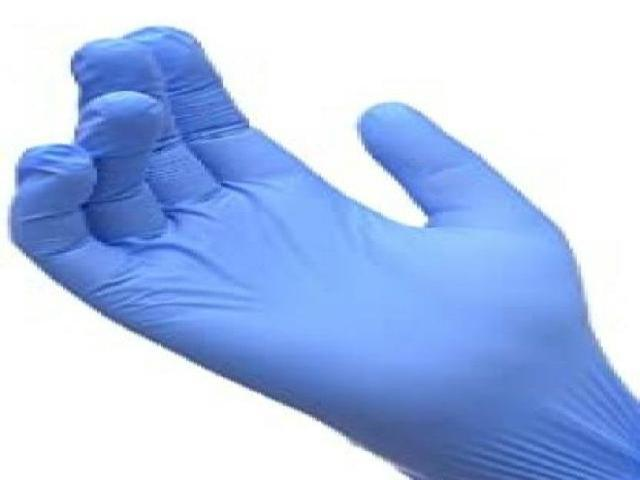Hand-in-Glove: (1, 24, 636, 478)
